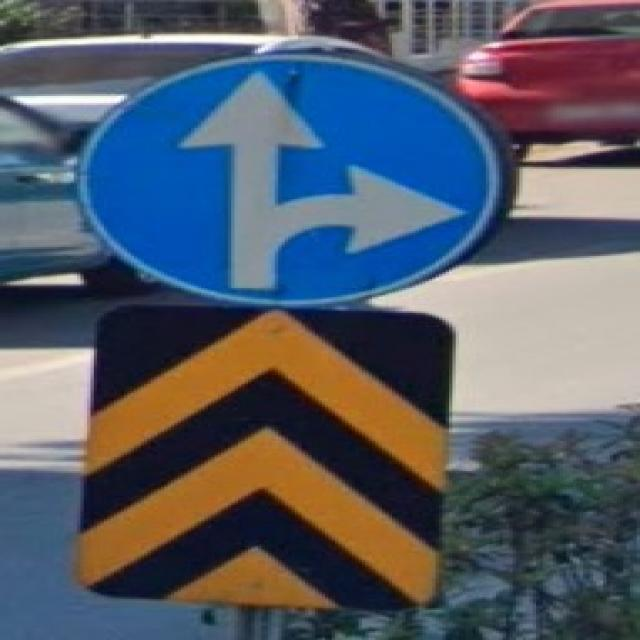Straight or Right: (78, 58, 500, 301)
